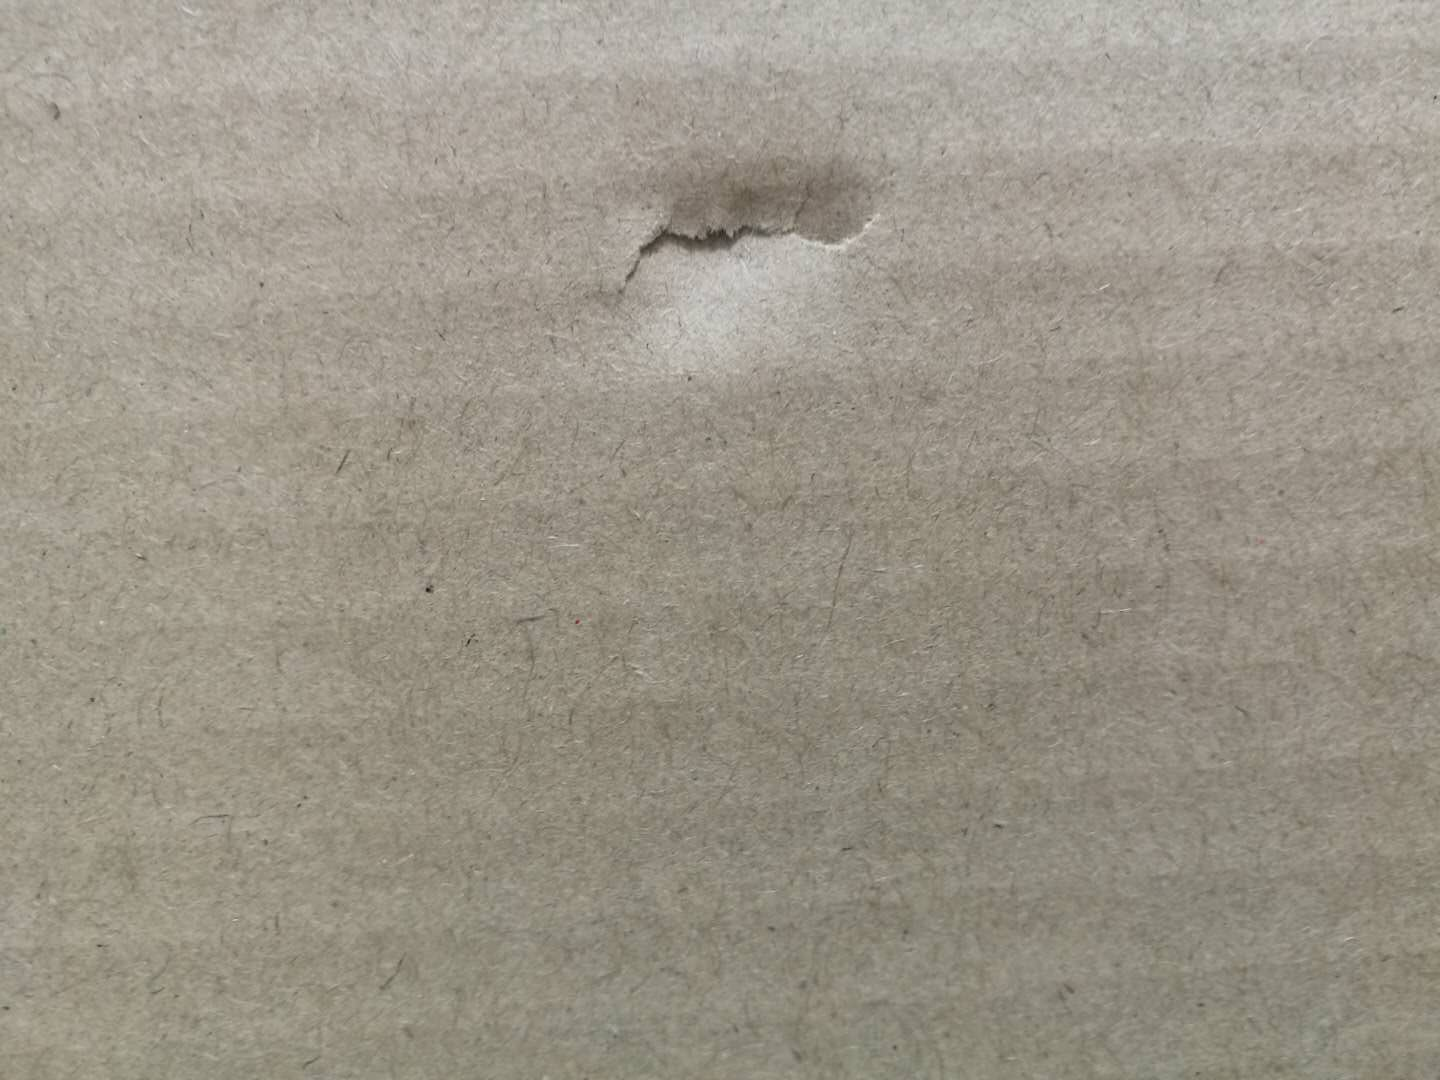defect: (575, 135, 910, 348)
